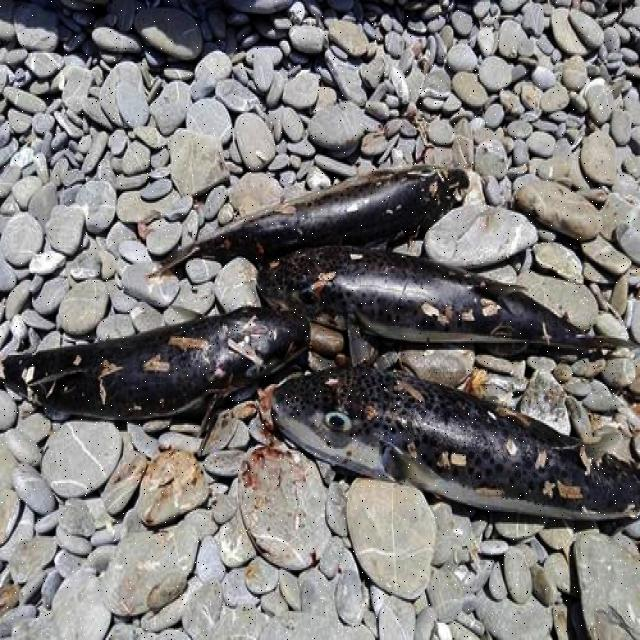Balik: (272, 367, 639, 520), (259, 246, 629, 349), (0, 308, 309, 419), (163, 166, 469, 269)
